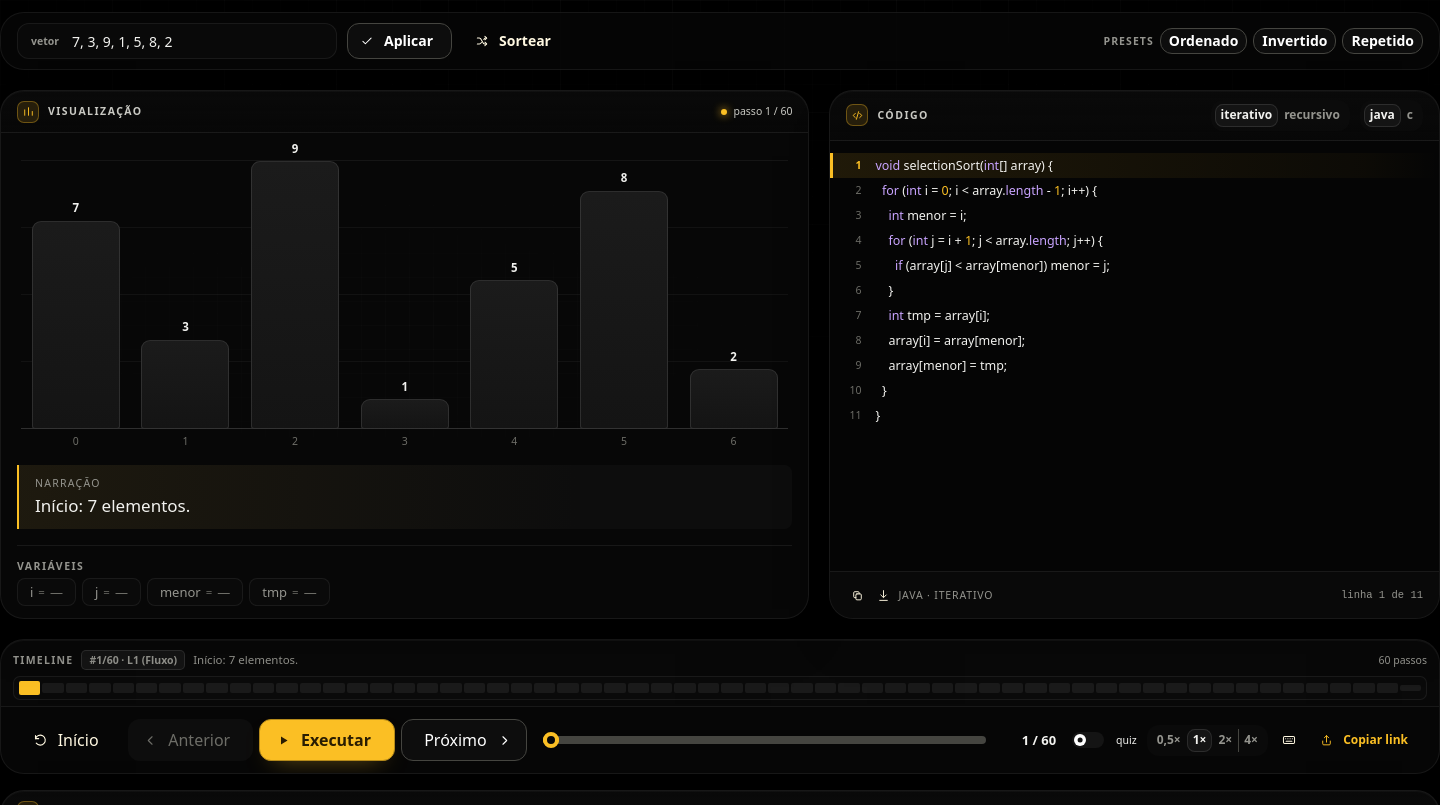
Scenario: LessonView input toolbar › reports invalid input next to the field
The width and height of the screenshot is (1440, 805).
Replace the text in the field named "valores" with "1, 2.5" at (177, 41), box 17,23 -> 337,59
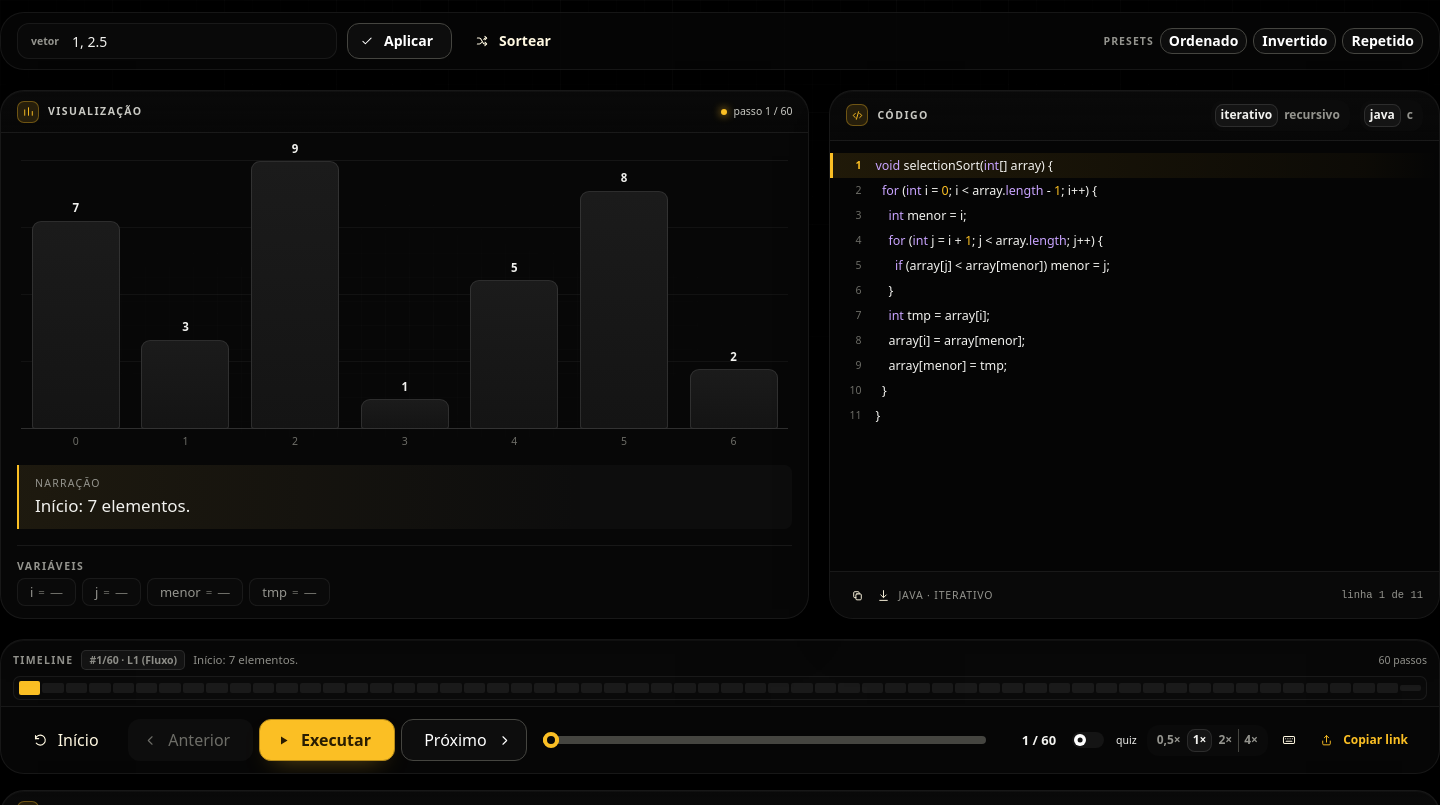
Click the button "Aplicar" at (400, 41), box 347,23 -> 452,59
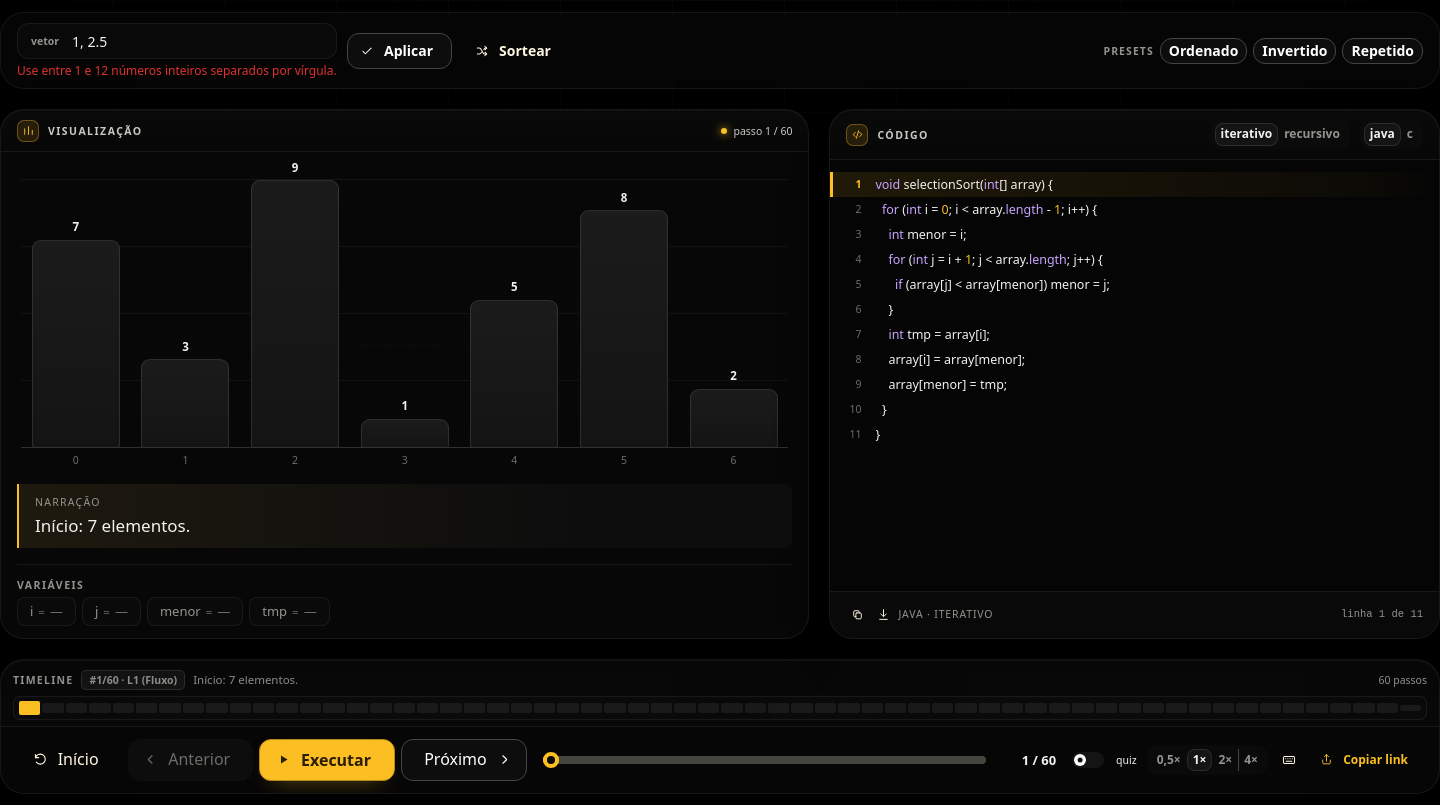
Check: the text "Use entre 1 e 12 números inteiros separados por vírgula." is shown, box 17,64 -> 337,78
